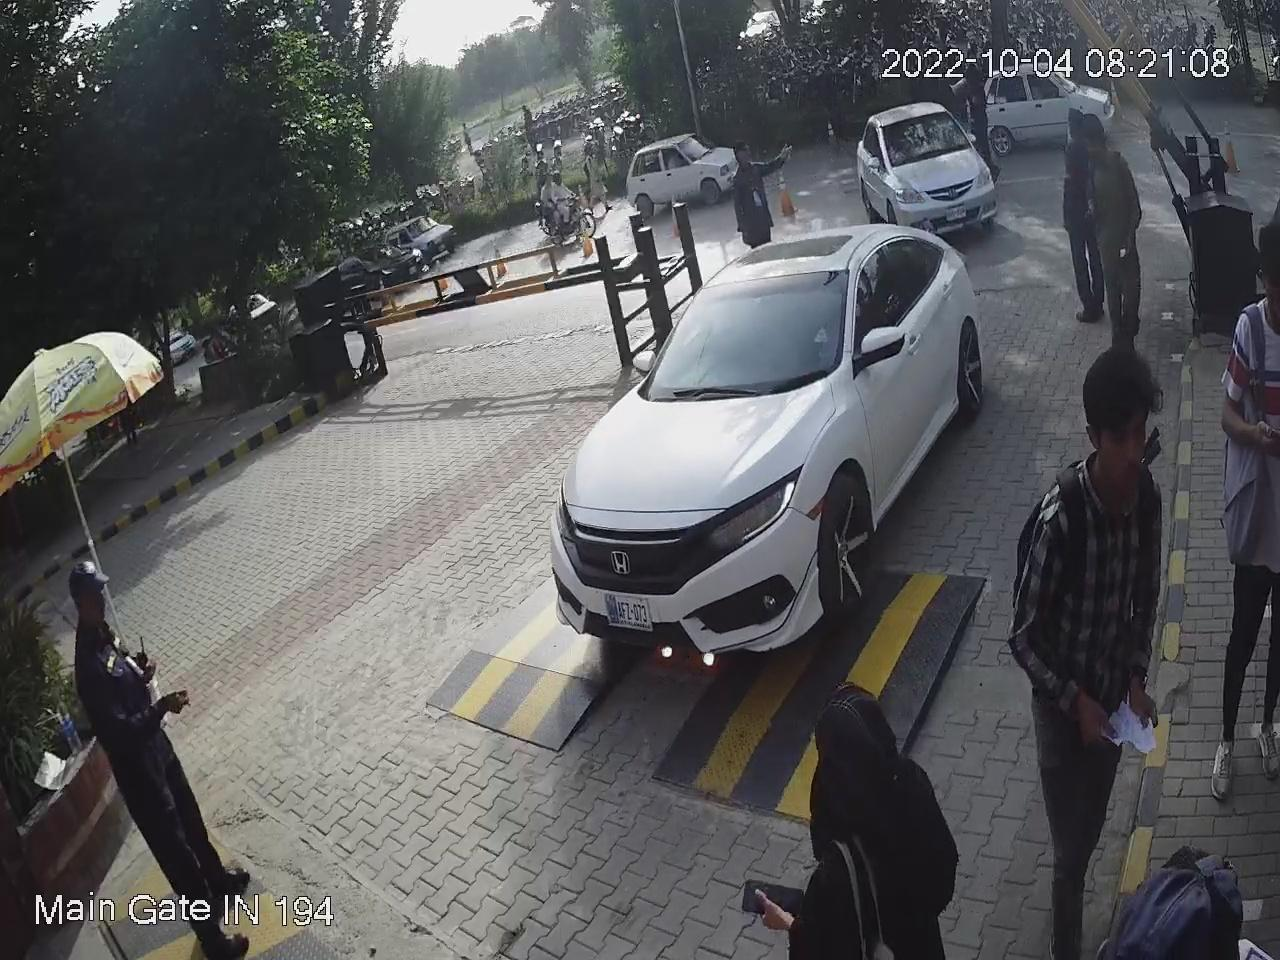windshield: (640, 265, 853, 392)
